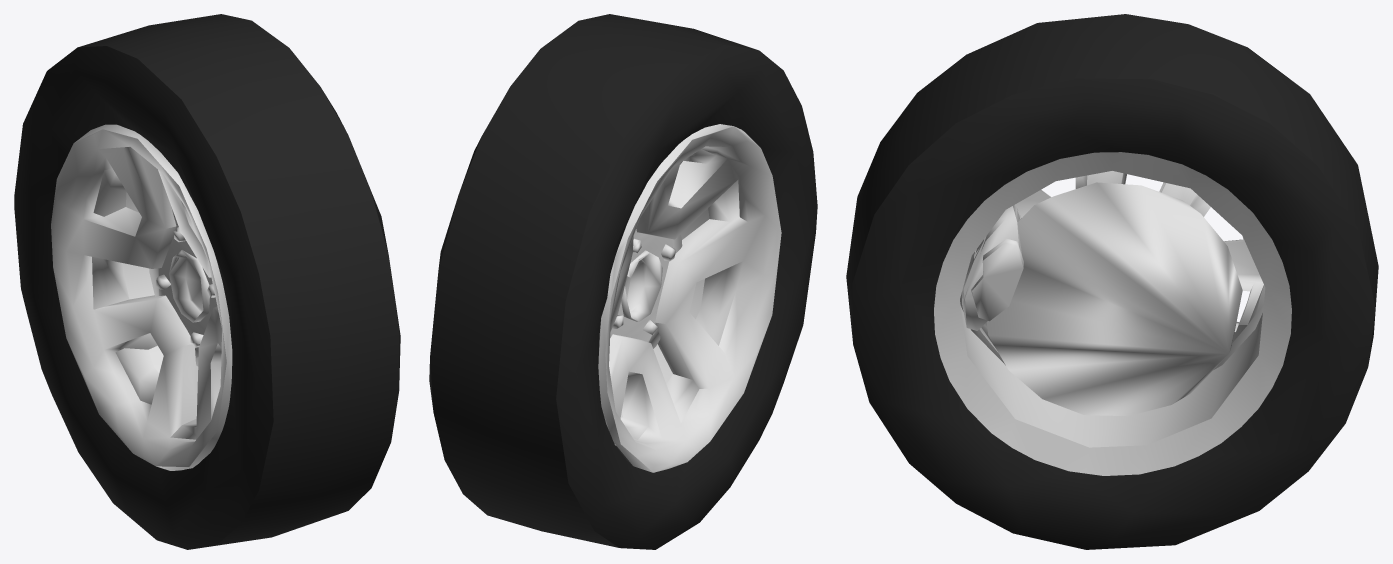
File: cartypewheel1model.obj
3 renders of one model, left to right at view 1: azimuth 30°, elevation 25°; view 2: azimuth 150°, elevation 25°; view 3: azimuth 270°, elevation 25°, orthographic.
Parts seen in each view (by area): view 1: cartypewheel1model_Wheel.001; view 2: cartypewheel1model_Wheel.001; view 3: cartypewheel1model_Wheel.001.
Part boxes in pixels (<box>): cartypewheel1model_Wheel.001: <box>14,14,400,549</box>; cartypewheel1model_Wheel.001: <box>429,14,817,549</box>; cartypewheel1model_Wheel.001: <box>846,14,1378,549</box>.
Size of the model in its own units: 0.1822 by 0.5619 by 0.5625.
